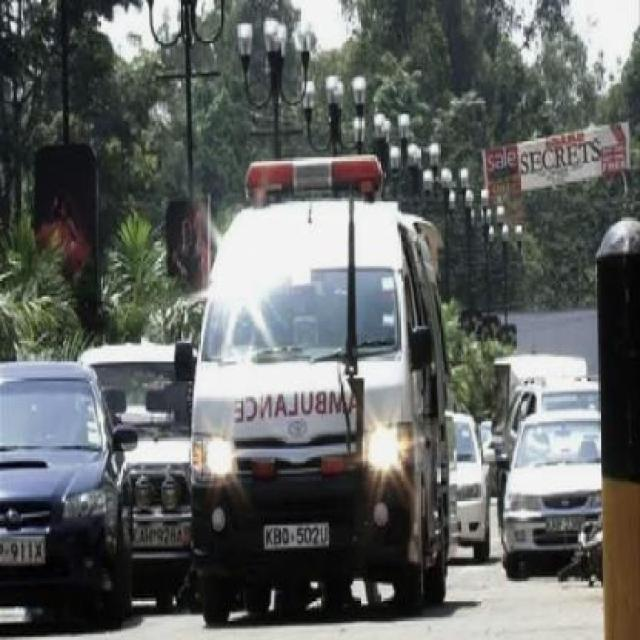emergency: (177, 152, 456, 624)
